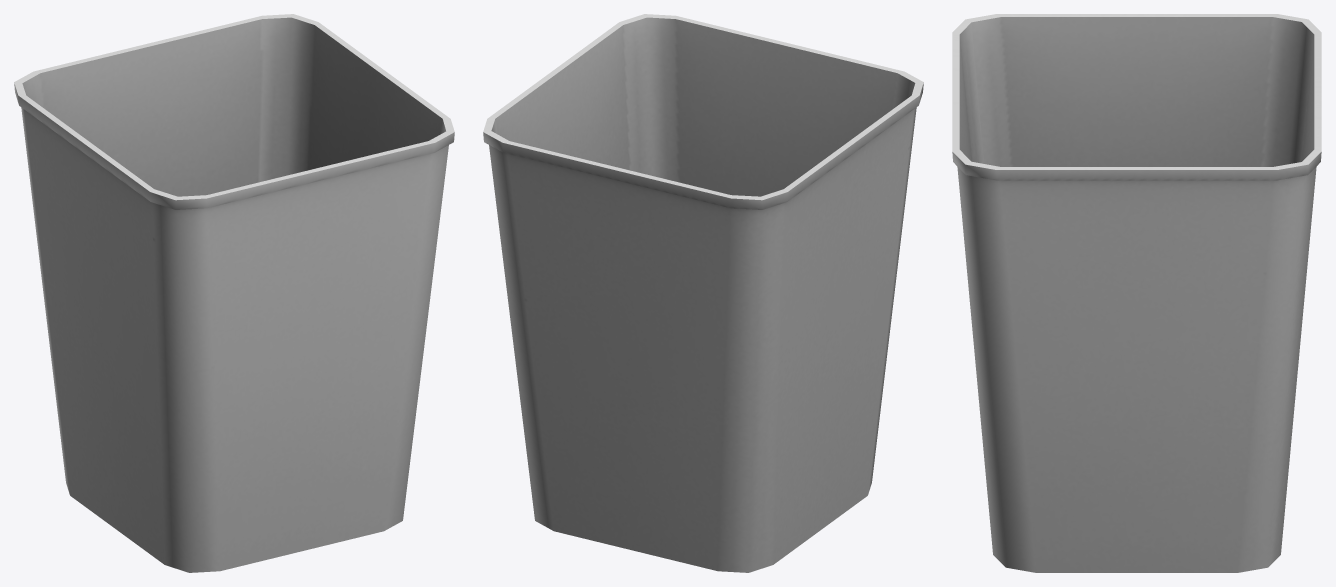
File: binOpen.fbx
The picture shows the model from 3 angles, left to right: view 1: azimuth 30°, elevation 25°; view 2: azimuth 150°, elevation 25°; view 3: azimuth 270°, elevation 25°; orthographic projection. The views are drawn at different scales.
Parts seen in each view (by area): view 1: binOpen; view 2: binOpen; view 3: binOpen.
Boxes of the visible parts, x1,y1,x2,y2 form: binOpen: (14, 14, 454, 572); binOpen: (483, 14, 923, 572); binOpen: (952, 14, 1321, 572).
Bounding box in the file's own units: 0.4896 × 0.6146 × 0.4896.
